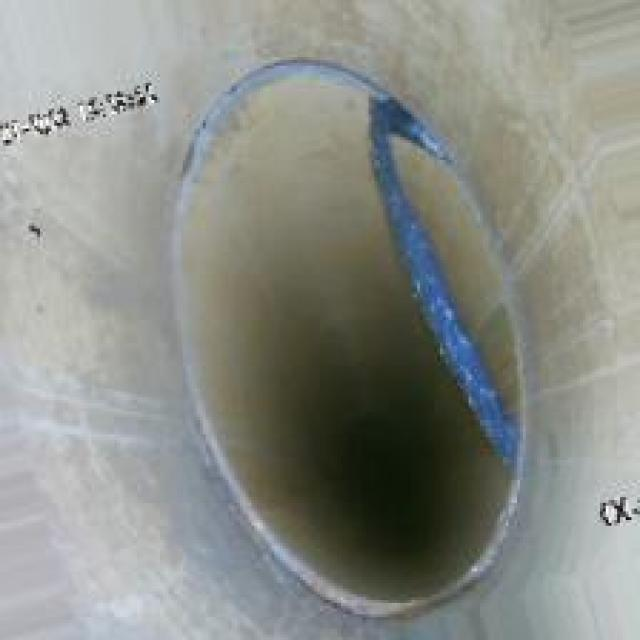joint: (163, 46, 557, 617)
